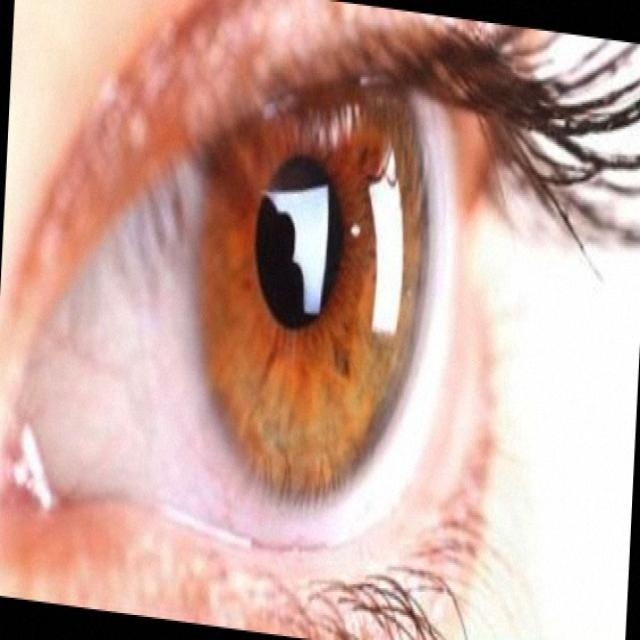Healthy-Eye: (77, 77, 530, 551)
